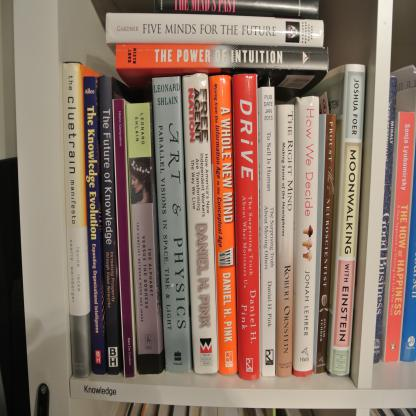book: (49, 27, 410, 408), (104, 0, 328, 99), (98, 402, 270, 416), (370, 408, 414, 416)
